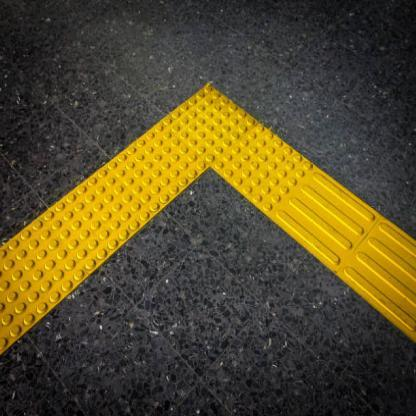podotacti: (2, 47, 416, 374)
